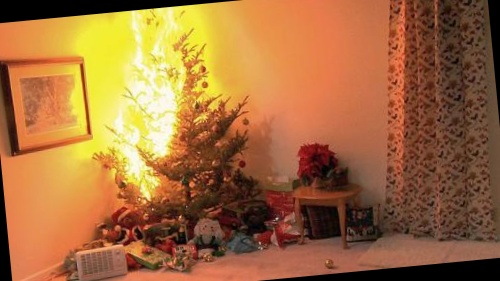fire: (87, 8, 177, 155)
